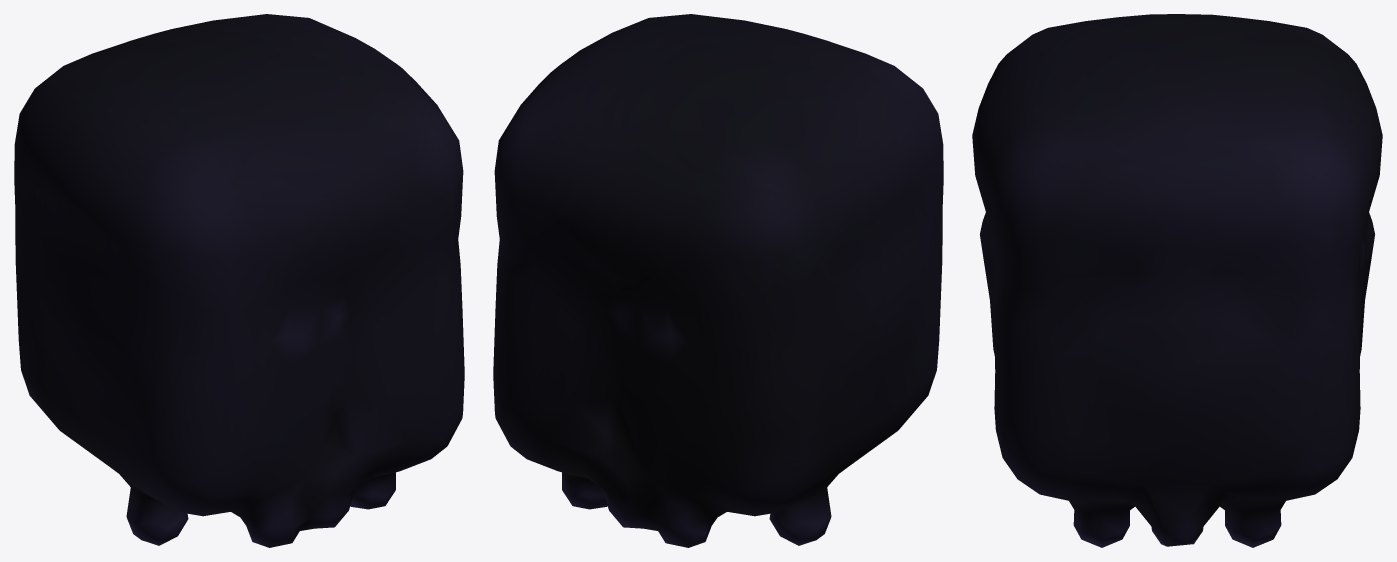
The model's file is arm_up.glb.
3 views of the same model, side by side, from view 1: azimuth 30°, elevation 25°; view 2: azimuth 150°, elevation 25°; view 3: azimuth 270°, elevation 25° (orthographic).
Parts seen in each view (by area): view 1: Goo; view 2: Goo; view 3: Goo.
Part boxes in pixels (<box>): Goo: <box>14,14,464,547</box>; Goo: <box>493,14,943,547</box>; Goo: <box>972,14,1382,547</box>.
Bounding box in the file's own units: 0.4875 × 0.6125 × 0.4888.
